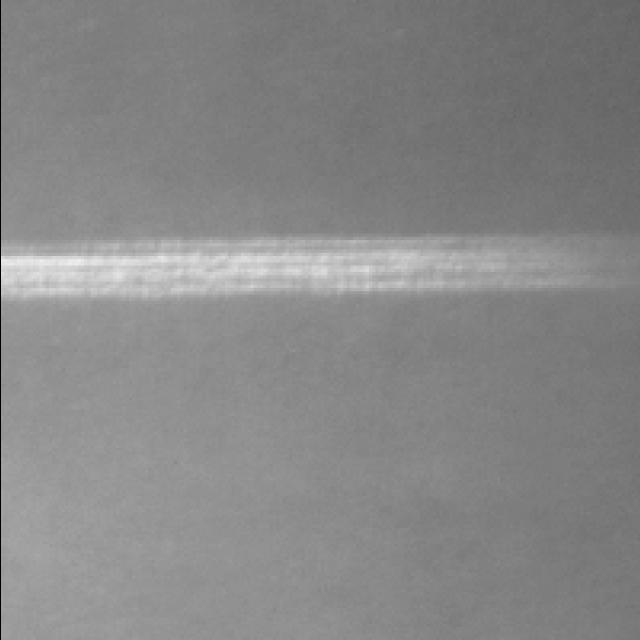scratches: (0, 250, 640, 292)
